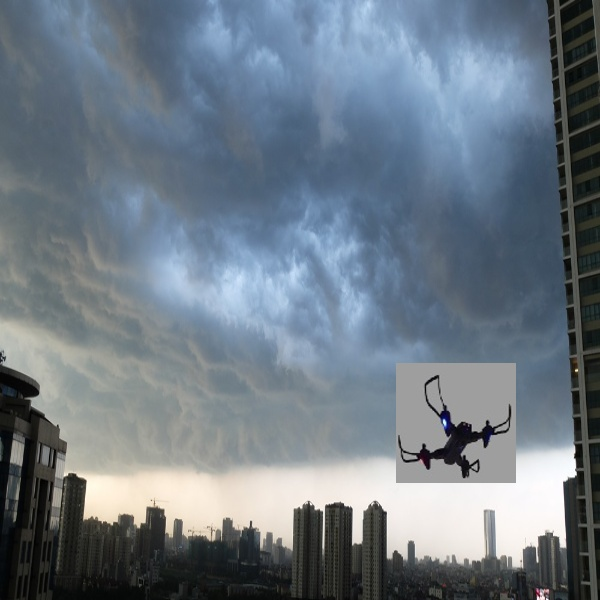drone: (396, 365, 518, 485)
